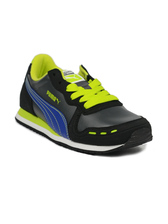shoes: (10, 53, 156, 156)
